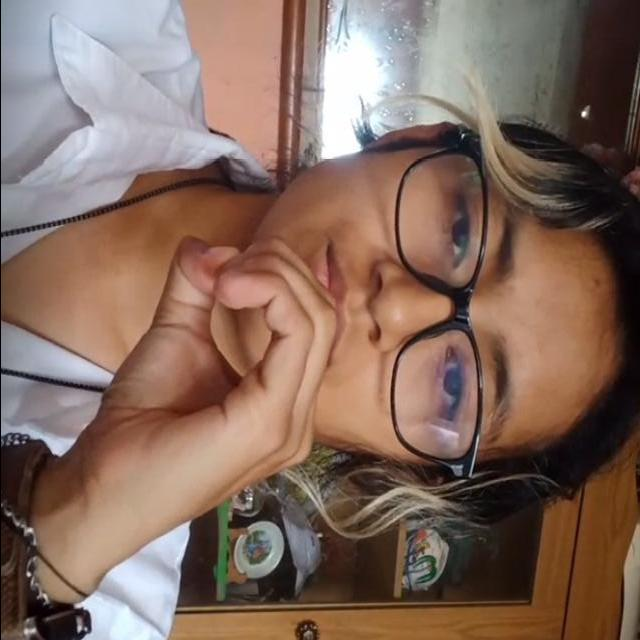O: (86, 208, 347, 495)
